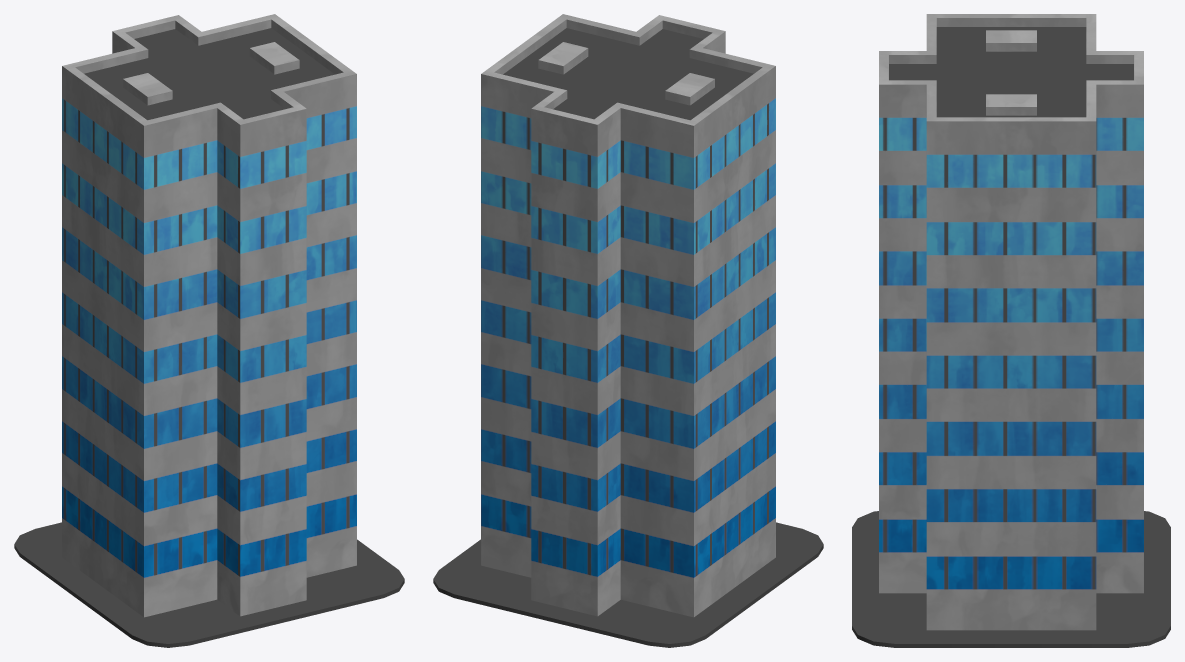
The model's file is Building3Complete.fbx.
3 renders of one model, left to right at view 1: azimuth 30°, elevation 25°; view 2: azimuth 150°, elevation 25°; view 3: azimuth 270°, elevation 25°, orthographic. The views are drawn at different scales.
Parts seen in each view (by area): view 1: Building3; view 2: Building3; view 3: Building3.
Part boxes in pixels (x1,y1,x2,y2): Building3: (14, 14, 404, 647); Building3: (433, 14, 823, 647); Building3: (852, 14, 1170, 647).
Size of the model in its own units: 9.2 by 16.32 by 9.2.
